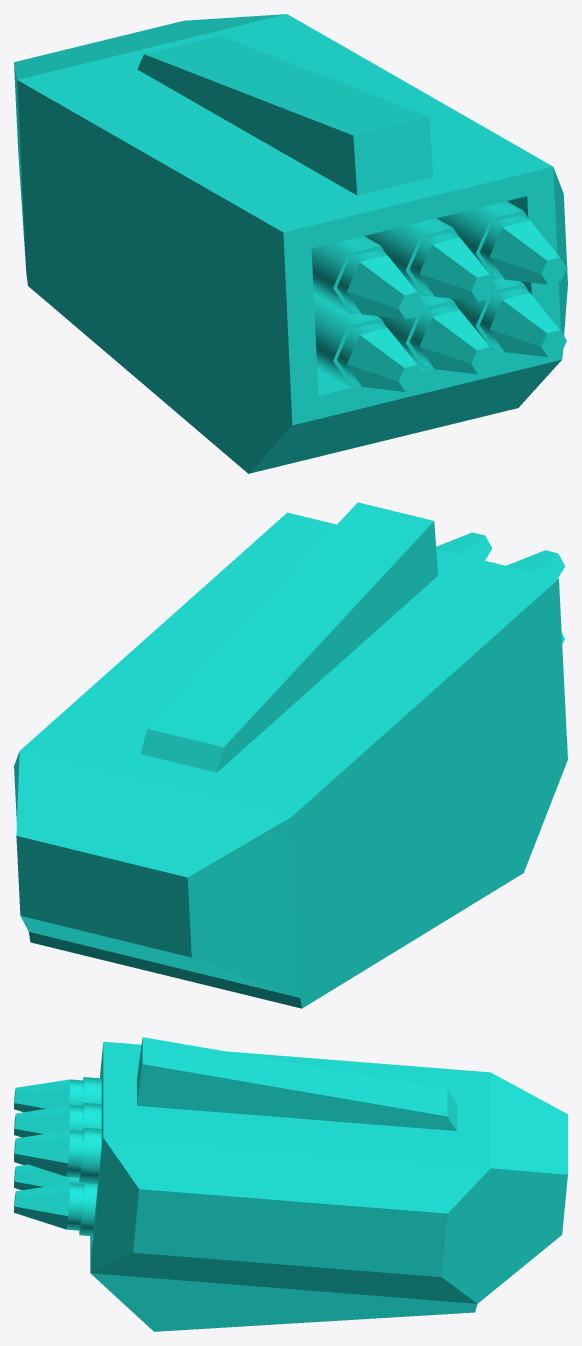
Rendered from MortarLauncherA.FBX.
The picture shows the model from 3 angles, top to bottom: view 1: azimuth 30°, elevation 25°; view 2: azimuth 150°, elevation 25°; view 3: azimuth 270°, elevation 25°; orthographic projection. The views are drawn at different scales.
Visible parts, largest first — view 1: MortarLauncherA; view 2: MortarLauncherA; view 3: MortarLauncherA.
Boxes of the visible parts, x1=… form: MortarLauncherA: x1=14, y1=14, x2=567, y2=473; MortarLauncherA: x1=14, y1=502, x2=567, y2=1008; MortarLauncherA: x1=14, y1=1037, x2=567, y2=1331.
Bounding box in the file's own units: 140 × 303 × 141.
